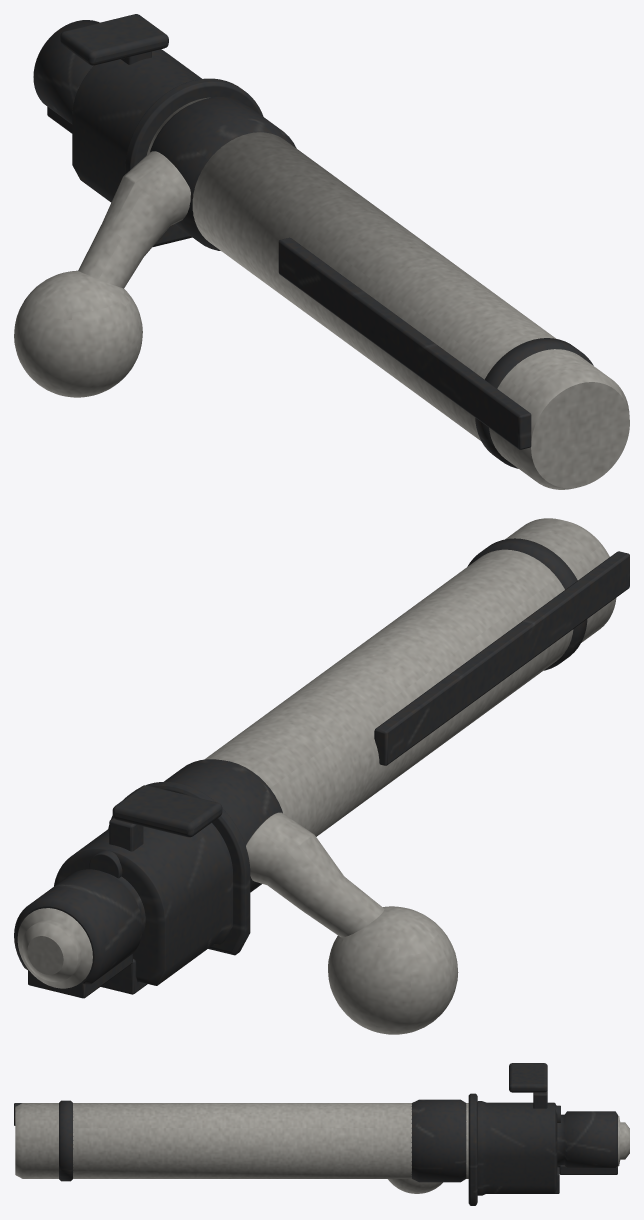
File: SM_Kar98k_Bolt.fbx
3 renders of one model, top to bottom at view 1: azimuth 30°, elevation 25°; view 2: azimuth 150°, elevation 25°; view 3: azimuth 270°, elevation 25°, orthographic. The views are drawn at different scales.
Visible parts, largest first — view 1: SM_Kar98k_Bolt; view 2: SM_Kar98k_Bolt; view 3: SM_Kar98k_Bolt.
Part boxes in pixels (bbox=[...]): SM_Kar98k_Bolt: bbox=[14, 14, 629, 489]; SM_Kar98k_Bolt: bbox=[14, 518, 629, 1034]; SM_Kar98k_Bolt: bbox=[14, 1063, 629, 1205].
Bounding box in the file's own units: 6.16 × 19 × 5.25.
